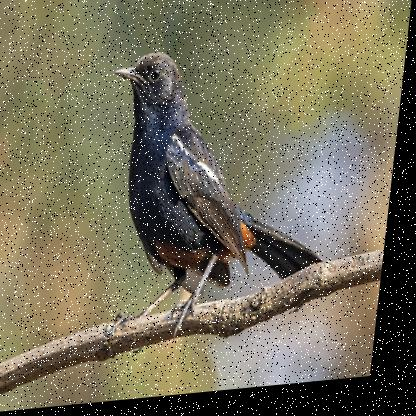Burung: (92, 39, 350, 351)
